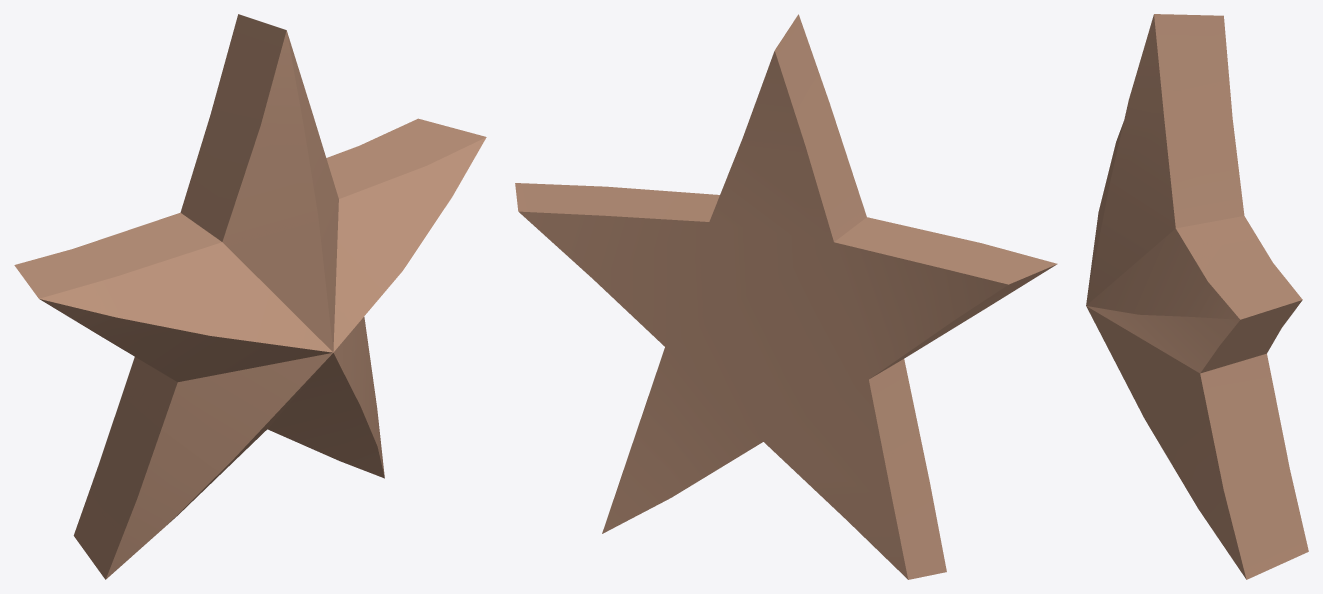
Rendered from TR1_Frame_Star.001 2.glb.
3 renders of one model, left to right at view 1: azimuth 30°, elevation 25°; view 2: azimuth 150°, elevation 25°; view 3: azimuth 270°, elevation 25°, orthographic. The views are drawn at different scales.
Visible parts, largest first — view 1: TR1_Frame_Star.001; view 2: TR1_Frame_Star.001; view 3: TR1_Frame_Star.001.
Boxes of the visible parts, box(x1,y1,x2,y2) form: TR1_Frame_Star.001: box(14, 14, 486, 579); TR1_Frame_Star.001: box(515, 14, 1057, 579); TR1_Frame_Star.001: box(1086, 14, 1308, 579).
Size of the model in its own units: 0.5648 by 0.5592 by 0.2269.
